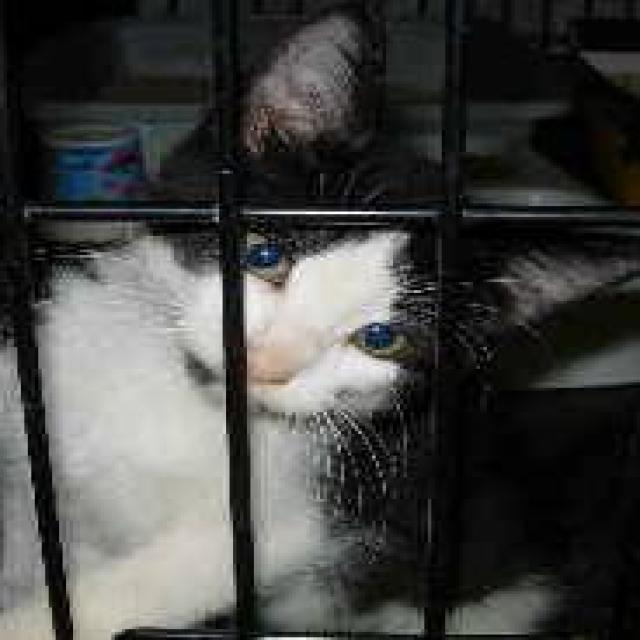cat: (0, 0, 636, 637)
